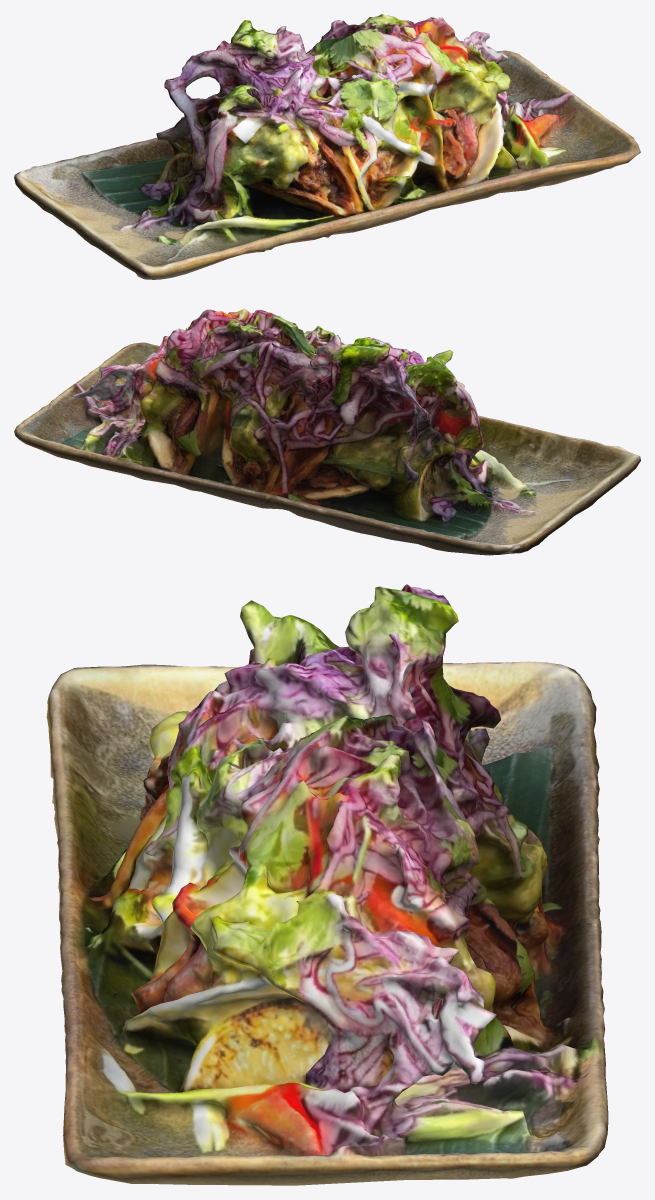
File: tacos-agneau.glb
3 renders of one model, top to bottom at view 1: azimuth 30°, elevation 25°; view 2: azimuth 150°, elevation 25°; view 3: azimuth 270°, elevation 25°, orthographic. The views are drawn at different scales.
Visible parts, largest first — view 1: ObjectCapture; view 2: ObjectCapture; view 3: ObjectCapture.
Part boxes in pixels (bbox=[...]): ObjectCapture: bbox=[14, 14, 640, 279]; ObjectCapture: bbox=[14, 308, 640, 555]; ObjectCapture: bbox=[46, 584, 608, 1185].
Bounding box in the file's own units: 0.2346 × 0.0736 × 0.1119.
1 material, 1 textured.
